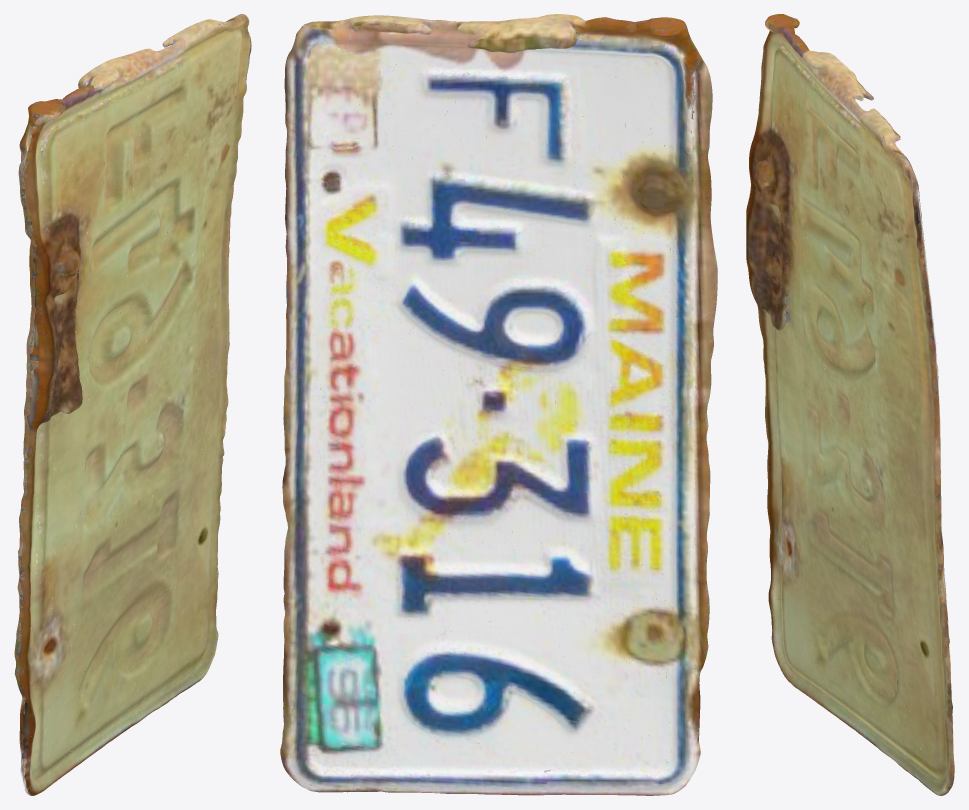
File: license_plate.glb
3 renders of one model, left to right at view 1: azimuth 30°, elevation 25°; view 2: azimuth 150°, elevation 25°; view 3: azimuth 270°, elevation 25°, orthographic. The views are drawn at different scales.
Visible parts, largest first — view 1: Object_2, Object_5, Object_3, Object_4, Object_6, Object_7; view 2: Object_6, Object_3, Object_4, Object_5, Object_2, Object_7; view 3: Object_2, Object_5, Object_3, Object_6, Object_4, Object_7.
Boxes of the visible parts, x1,y1,x2,y2 form: Object_2: (14,15,249,795); Object_5: (14,14,251,794); Object_3: (20,59,187,787); Object_4: (19,44,213,792); Object_6: (16,17,250,795); Object_7: (21,24,223,792); Object_6: (280,19,717,793); Object_3: (381,14,693,794); Object_4: (388,19,705,795); Object_5: (294,20,716,793); Object_2: (284,14,712,795); Object_7: (379,16,695,792); Object_2: (749,14,946,777); Object_5: (746,16,951,795); Object_3: (768,26,881,748); Object_6: (746,16,954,795); Object_4: (766,23,890,731); Object_7: (779,35,883,740).
Bounding box in the file's own units: 146 × 312 × 88.49.
1 material, 1 textured.
